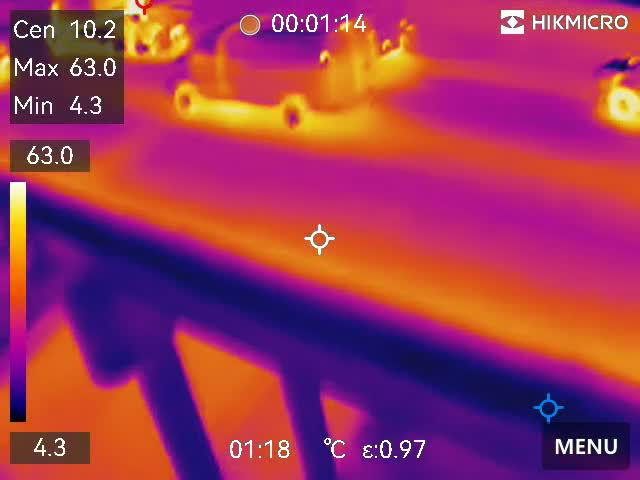lightTruck: (168, 20, 378, 132)
